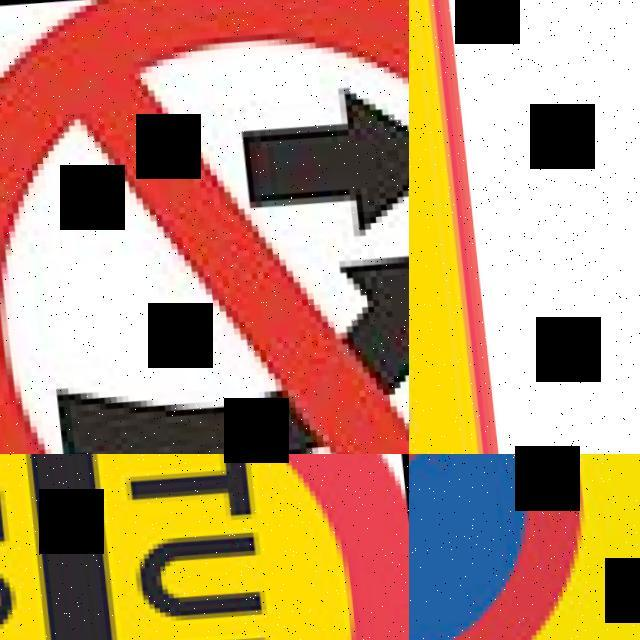181: (409, 0, 502, 454)
82: (409, 454, 640, 640)
No passing: (0, 0, 409, 454)
Stop at customs: (0, 454, 409, 640)
